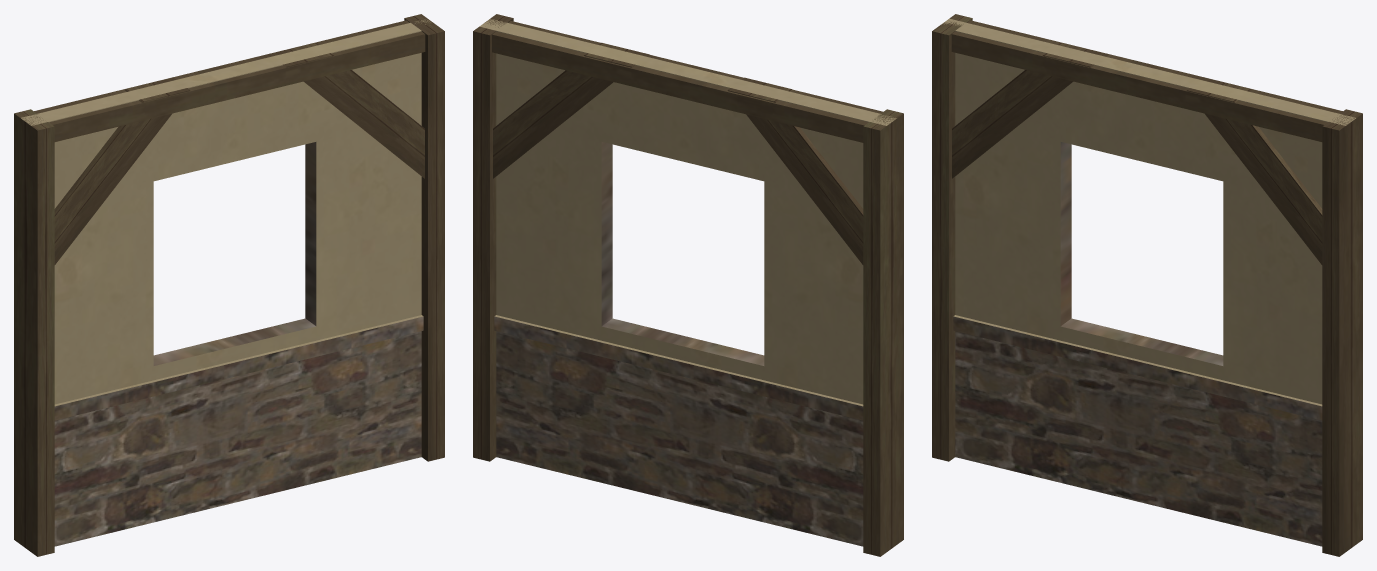
The model's file is wall01f_w01.glb.
The picture shows the model from 3 angles, left to right: view 1: azimuth 30°, elevation 25°; view 2: azimuth 150°, elevation 25°; view 3: azimuth 330°, elevation 25°; orthographic projection.
Parts seen in each view (by area): view 1: wall01f_w01; view 2: wall01f_w01; view 3: wall01f_w01.
Part boxes in pixels (x1=…): wall01f_w01: x1=14, y1=14, x2=444, y2=556; wall01f_w01: x1=473, y1=14, x2=903, y2=556; wall01f_w01: x1=932, y1=14, x2=1362, y2=556.
Size of the model in its own units: 3 by 3 by 0.3.
Materials: 3 (3 with a texture image).
